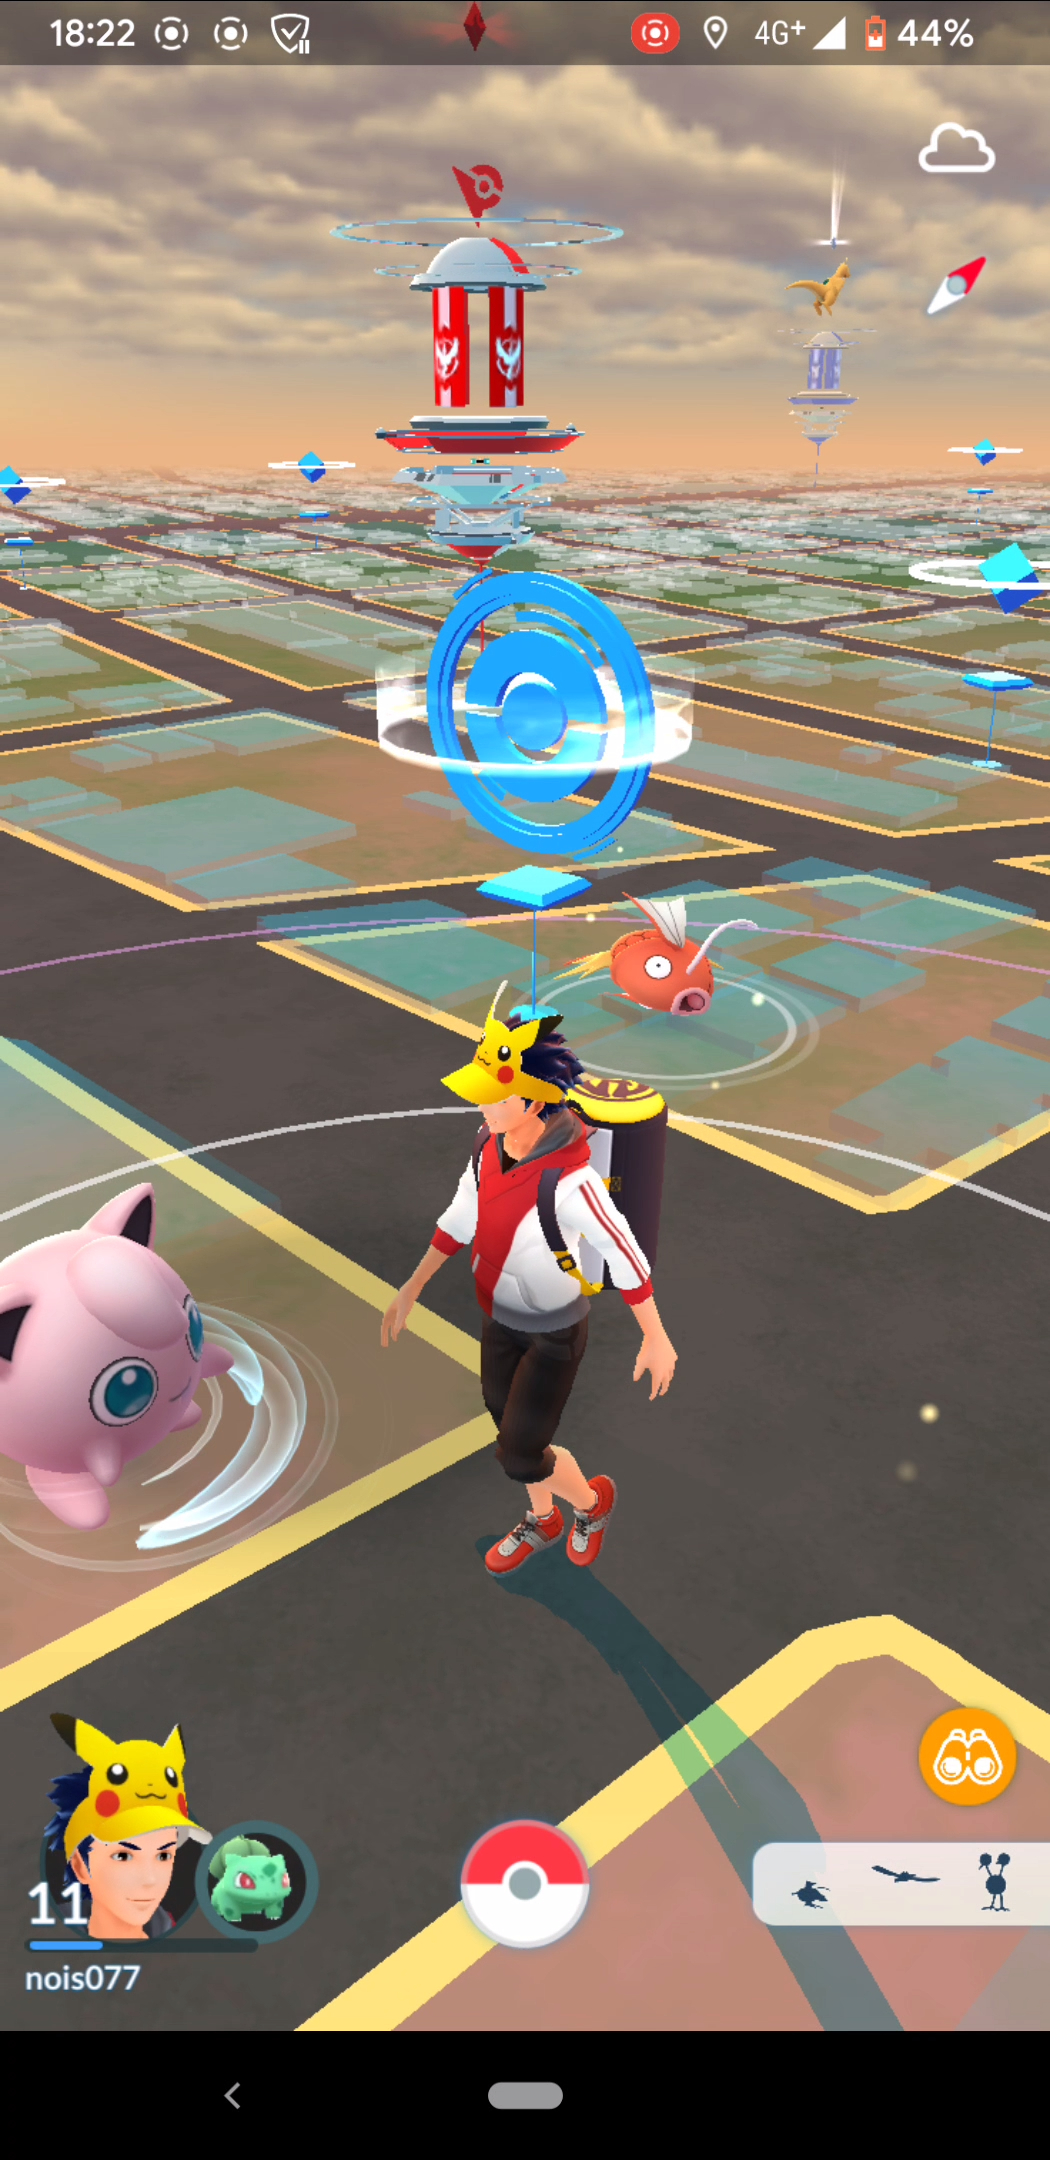pokestop: (416, 563, 663, 862)
